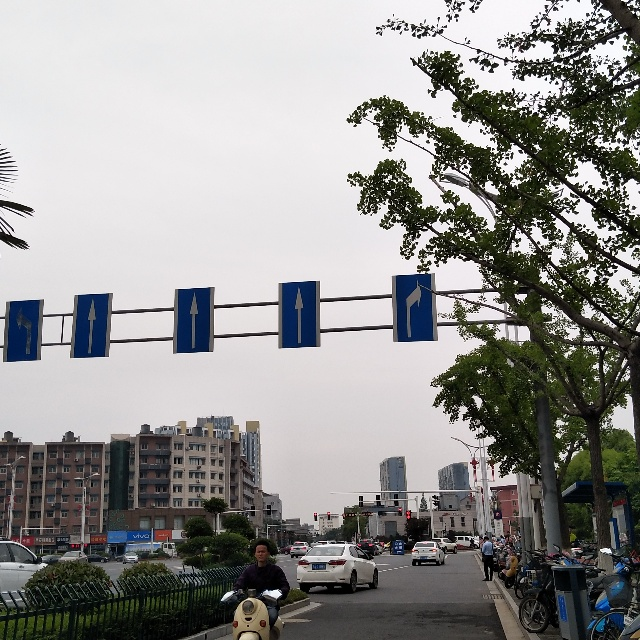left: (2, 296, 44, 368)
right: (392, 275, 437, 343)
straight: (278, 280, 323, 349), (173, 286, 216, 354), (73, 293, 111, 360)
